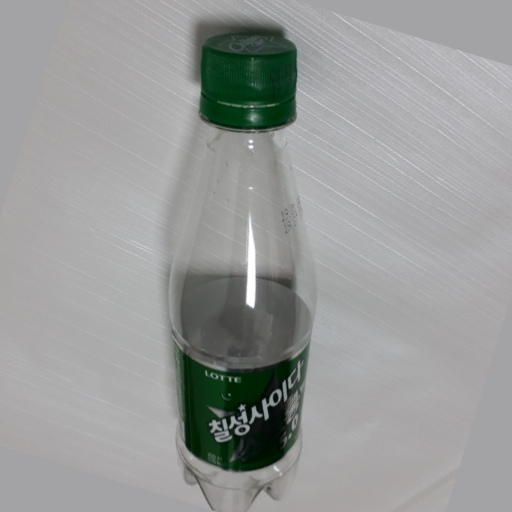Plastic_0: (166, 30, 319, 508)
